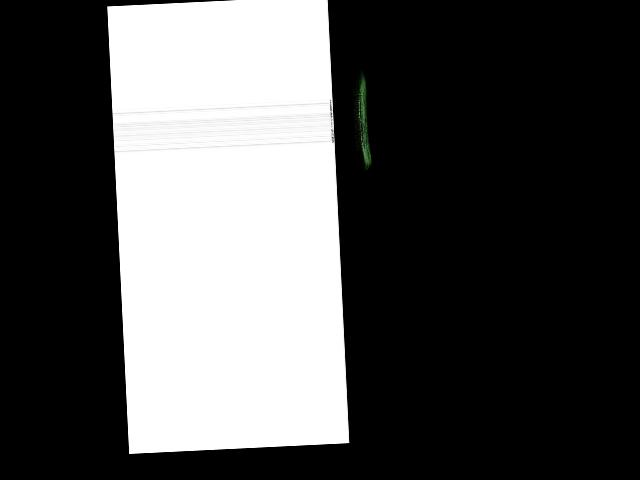cucumber: (351, 68, 371, 172)
